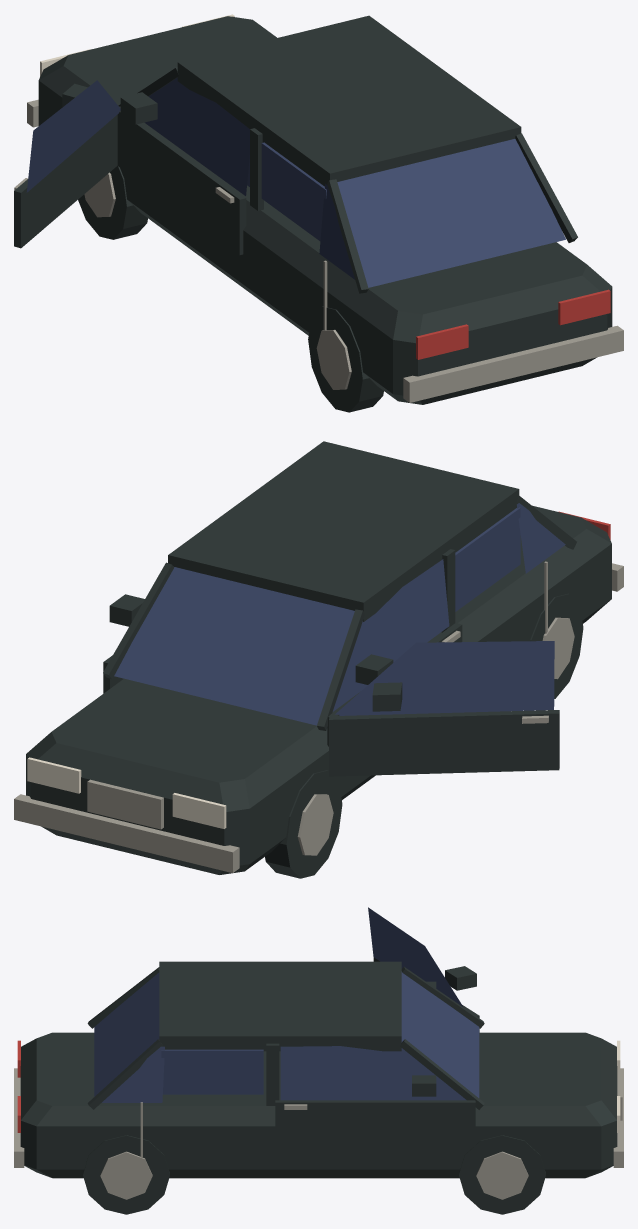
Rendered from R08_Inspection_Car.fbx.
3 views of the same model, one above another, from view 1: azimuth 30°, elevation 25°; view 2: azimuth 150°, elevation 25°; view 3: azimuth 270°, elevation 25° (orthographic). The views are drawn at different scales.
Parts seen in each view (by area): view 1: Body, Door_L, Door_L_Open, Wheel_RL, Wheel_FL; view 2: Body, Door_L_Open, Door_L, Wheel_FL, Wheel_RL; view 3: Body, Wheel_FR, Wheel_RR, Door_L_Open.
Boxes of the visible parts, x1,y1,x2,y2 form: Body: [27, 14, 623, 404]; Door_L: [117, 77, 249, 254]; Door_L_Open: [14, 80, 120, 248]; Wheel_RL: [308, 306, 383, 412]; Wheel_FL: [78, 166, 147, 239]; Body: [14, 441, 623, 874]; Door_L_Open: [329, 641, 559, 776]; Door_L: [327, 559, 462, 746]; Wheel_FL: [265, 770, 342, 878]; Wheel_RL: [530, 593, 583, 698]; Body: [14, 961, 623, 1178]; Wheel_FR: [459, 1135, 545, 1214]; Wheel_RR: [83, 1135, 169, 1214]; Door_L_Open: [368, 907, 479, 1032].
Size of the model in its own units: 2.93 by 1.5 by 4.8.
